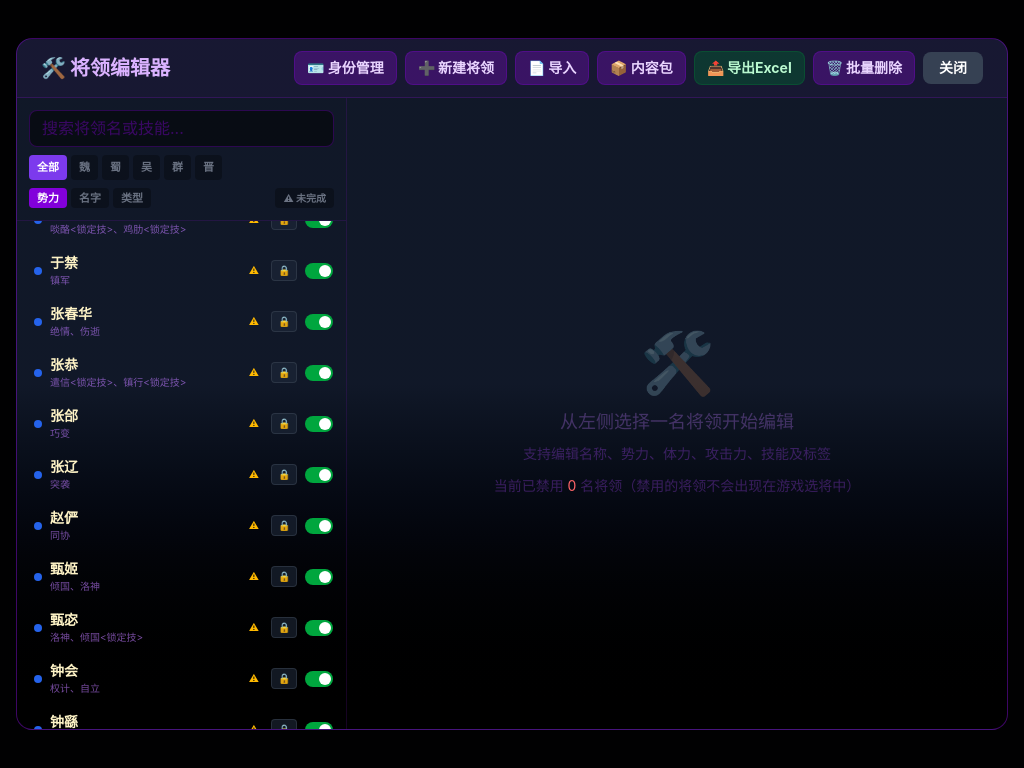
Test: 拼积木→生成文字→文字还能改 › 纯文字那一档（没有积木）界面如实说明它不参与结算
The width and height of the screenshot is (1024, 768).
(page scrolled)
Click the button "张辽 突袭 ⚠": (146, 475) [26,451,267,498]
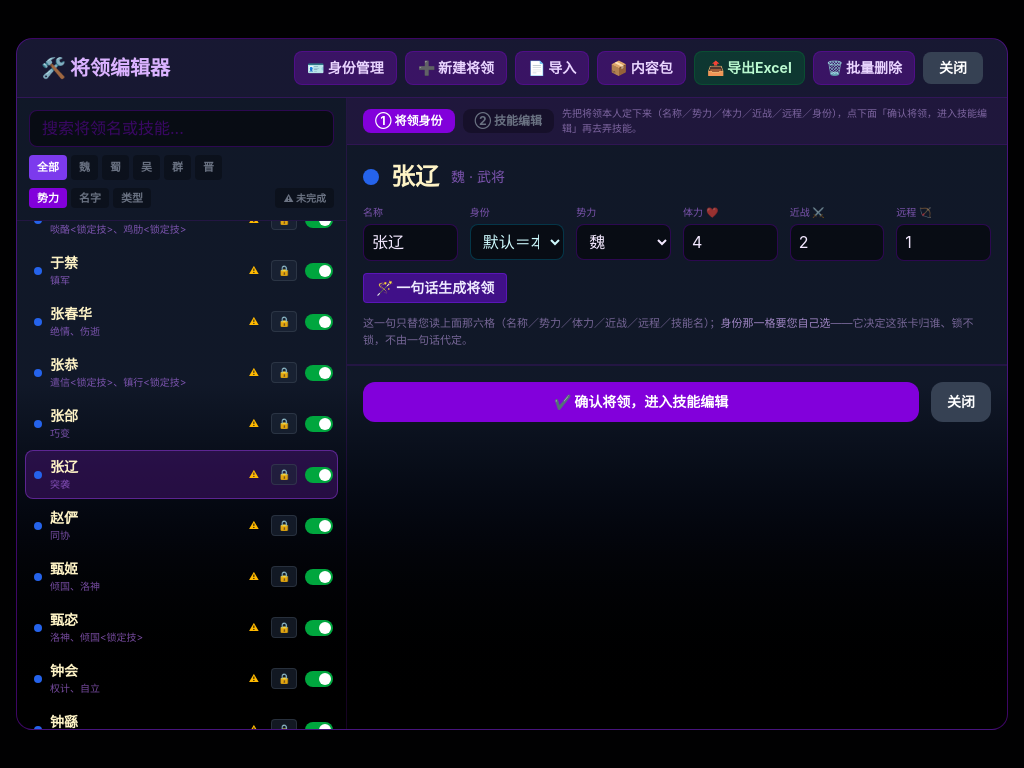
Click the button "② 技能编辑": (508, 121) [462,109,554,133]
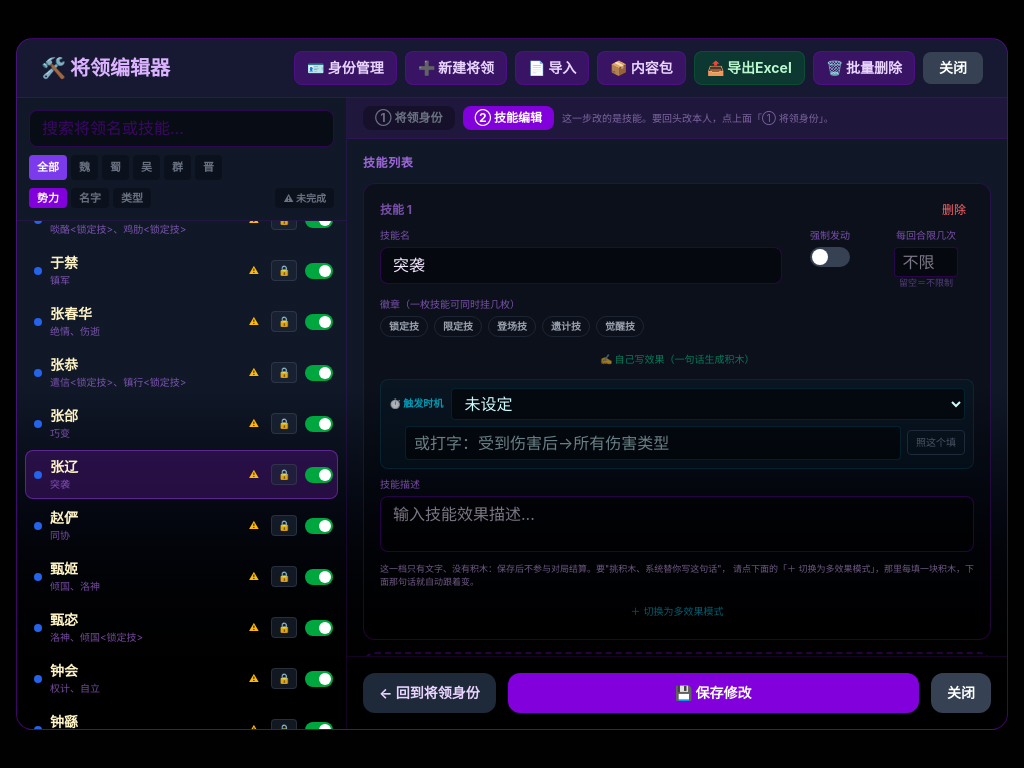
Click the button "＋ 切换为多效果模式": (677, 611) [380,600,974,623]
(page scrolled)
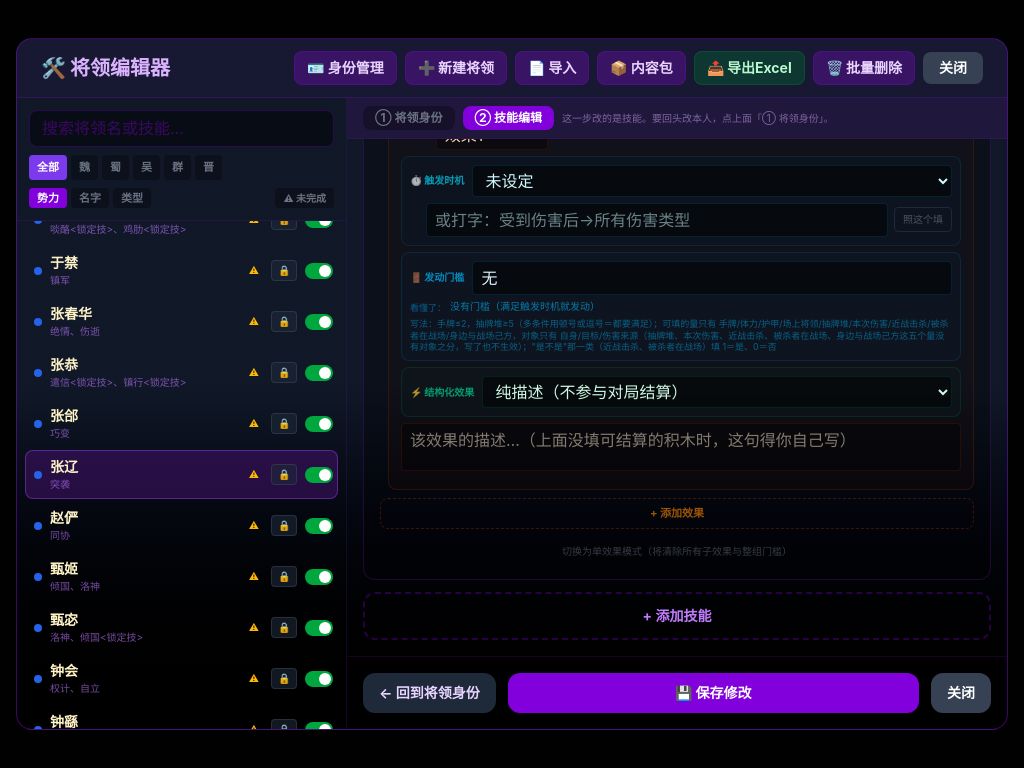
Click the button "切换为单效果模式（将清除所有子效果与整组门槛）": (677, 551) [380,540,974,562]
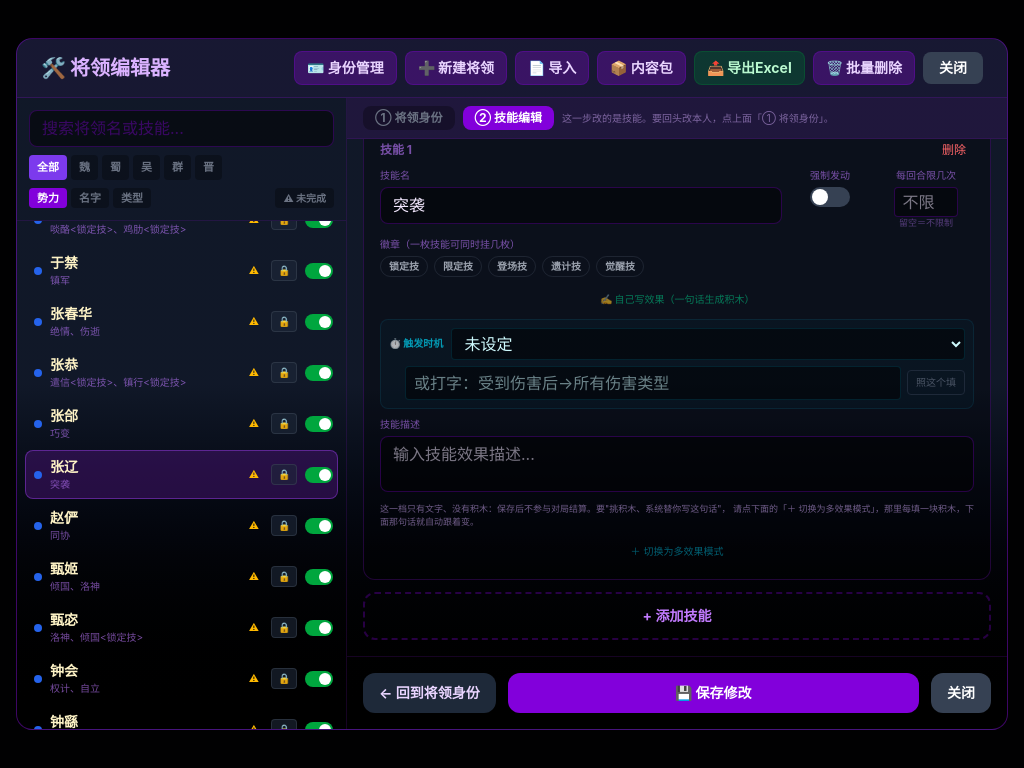
Check: the text "这一档只有文字、没有积木" is shown, box [380,503,974,527]
